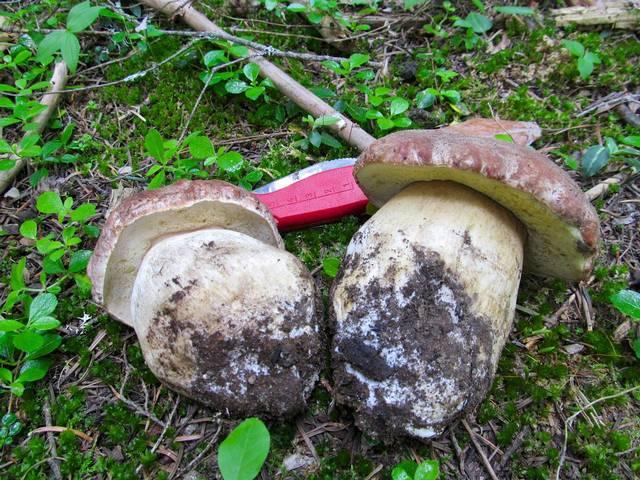edible_mushroom: (327, 123, 600, 443), (86, 177, 325, 421)
